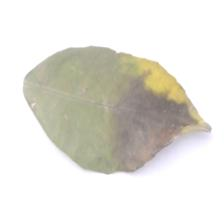black spot: (100, 75, 196, 172)
